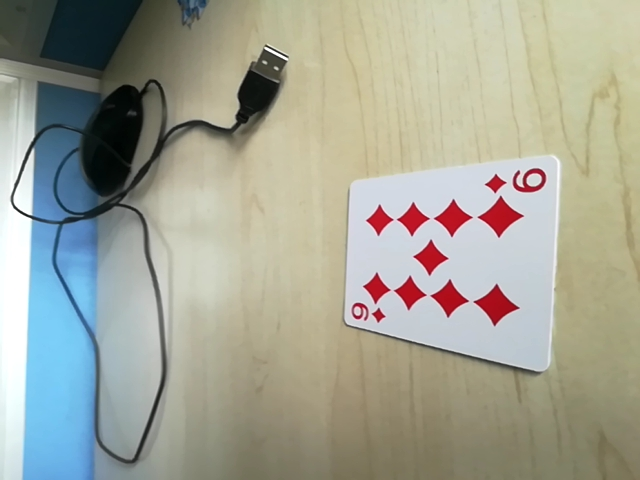fk 9: (486, 161, 550, 199), (345, 300, 389, 327)
